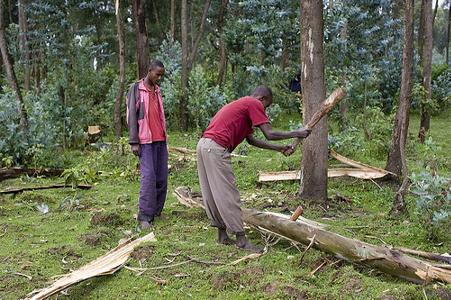person: (194, 84, 312, 250)
